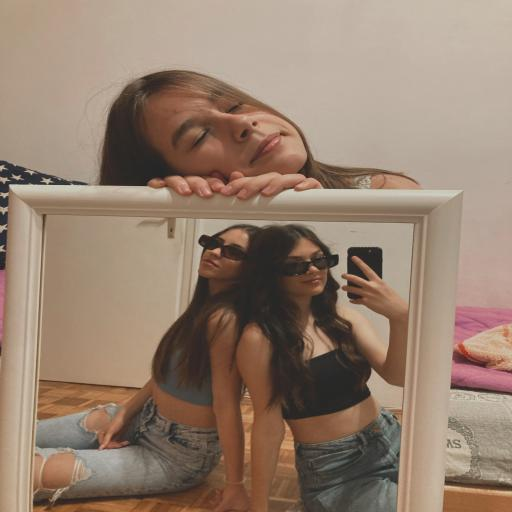masa: (200, 223, 242, 286)
